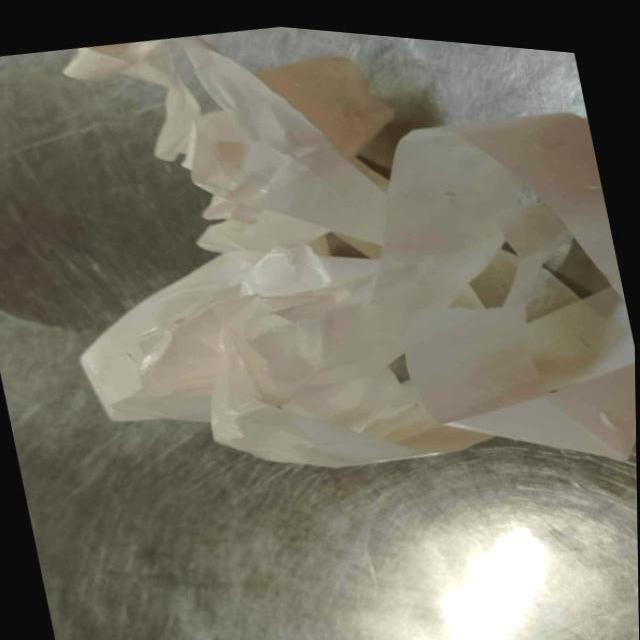Infectious: (62, 37, 634, 469)
